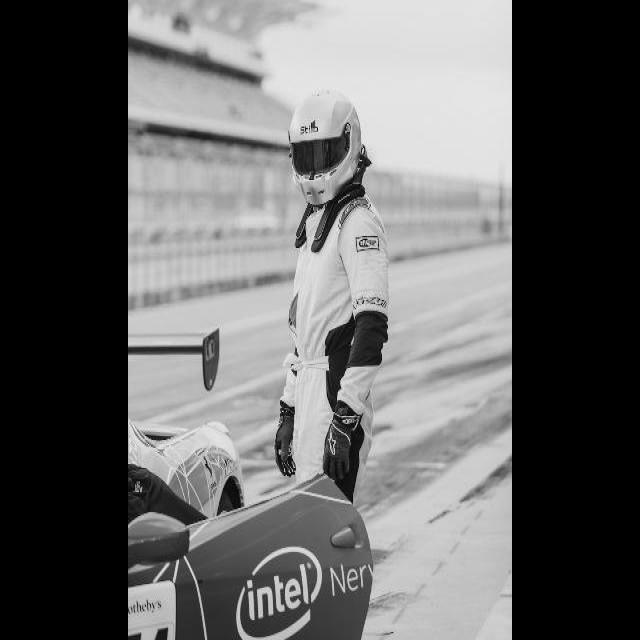5_casco: (277, 89, 375, 212)
